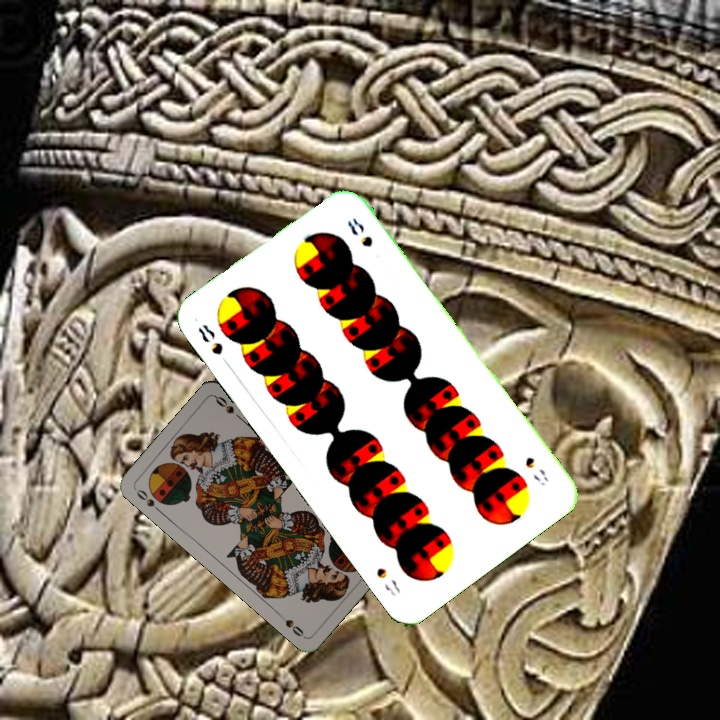S8: (194, 319, 233, 370), (521, 452, 551, 489)
SO: (131, 485, 164, 516)
